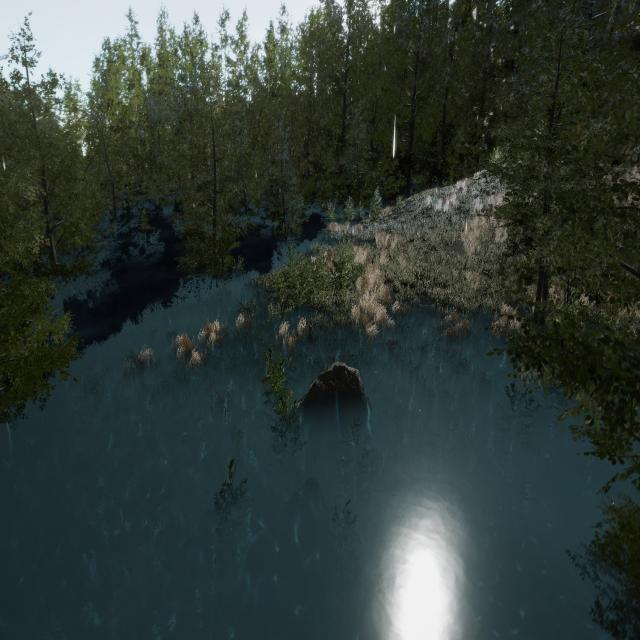Human: (299, 316, 320, 352)
